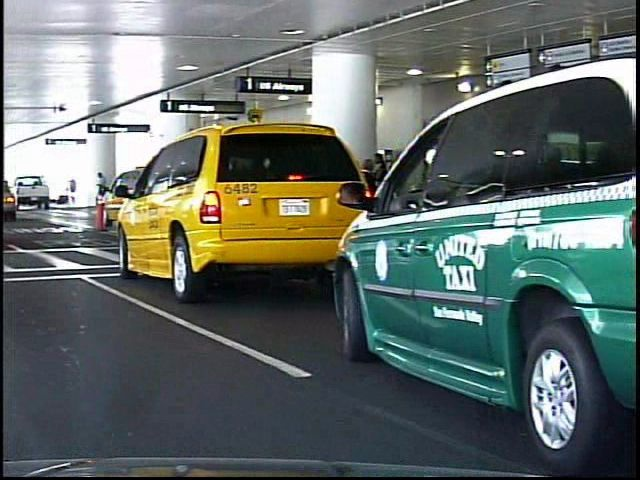person: (87, 171, 104, 209)
